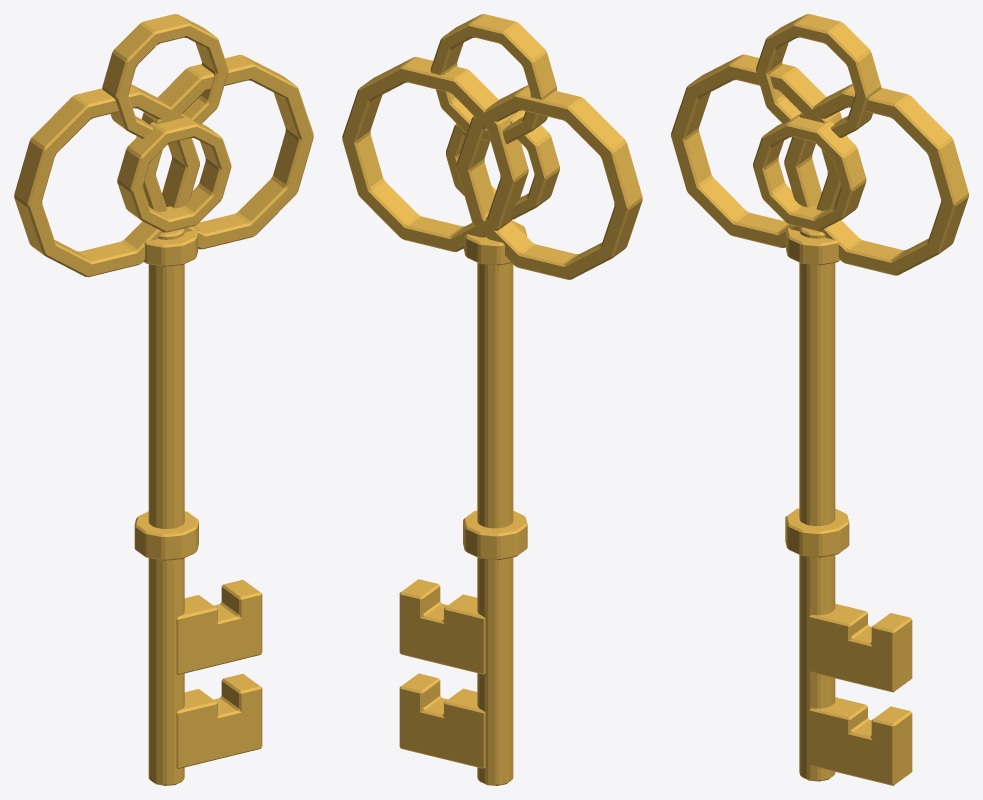
File: OrnateKey.fbx
The picture shows the model from 3 angles, left to right: view 1: azimuth 30°, elevation 25°; view 2: azimuth 150°, elevation 25°; view 3: azimuth 330°, elevation 25°; orthographic projection.
Visible parts, largest first — view 1: OrnateKey; view 2: OrnateKey; view 3: OrnateKey.
Part boxes in pixels (<box>): OrnateKey: <box>14,14,313,785</box>; OrnateKey: <box>342,14,642,785</box>; OrnateKey: <box>671,14,968,785</box>.
Size of the model in its own units: 47.81 by 121 by 9.41.
